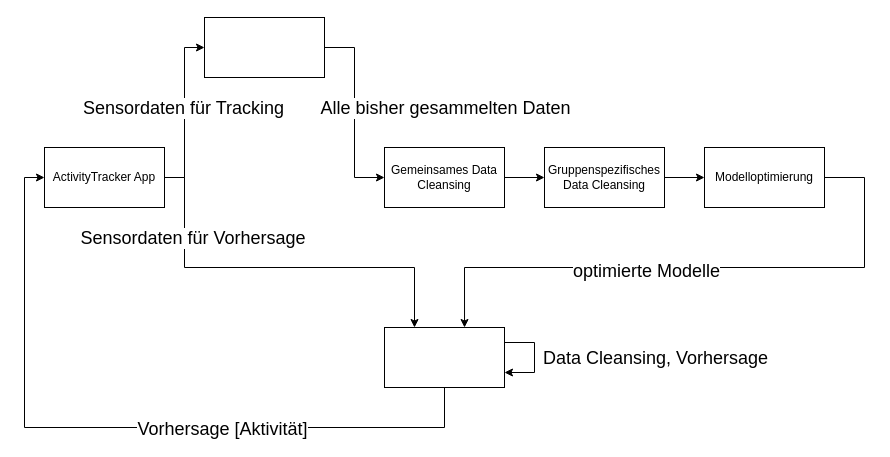
Some shapes in this 890 by 457 pixel diagram are drawn without their labels. Here are the shapes that lost their labels. From the top down, the box of each, then its label:
(204, 16, 324, 78): Azure Storage Cloud
(384, 326, 504, 388): Webservice
